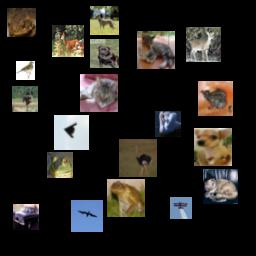airplane: (54, 115, 89, 150), (170, 197, 192, 219)
automobile: (13, 204, 39, 230)
bird: (119, 139, 157, 177), (71, 200, 103, 232), (12, 86, 38, 112), (155, 111, 181, 137), (16, 61, 35, 80)
cat: (80, 74, 118, 112), (137, 31, 175, 69), (203, 169, 238, 204)
deer: (186, 27, 221, 62), (52, 25, 84, 57)
dog: (194, 128, 232, 166), (90, 39, 119, 68), (90, 6, 119, 35)
frog: (107, 179, 145, 217), (198, 81, 233, 116), (7, 8, 36, 37), (47, 152, 73, 178)
